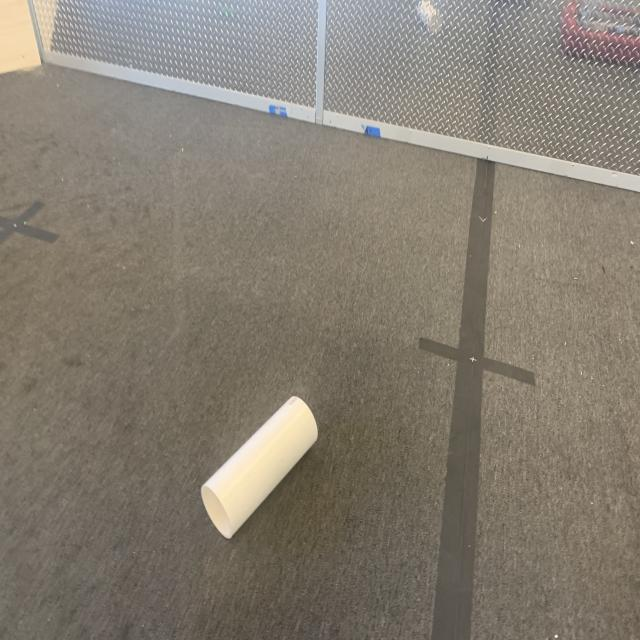Coral: (199, 393, 319, 540)
